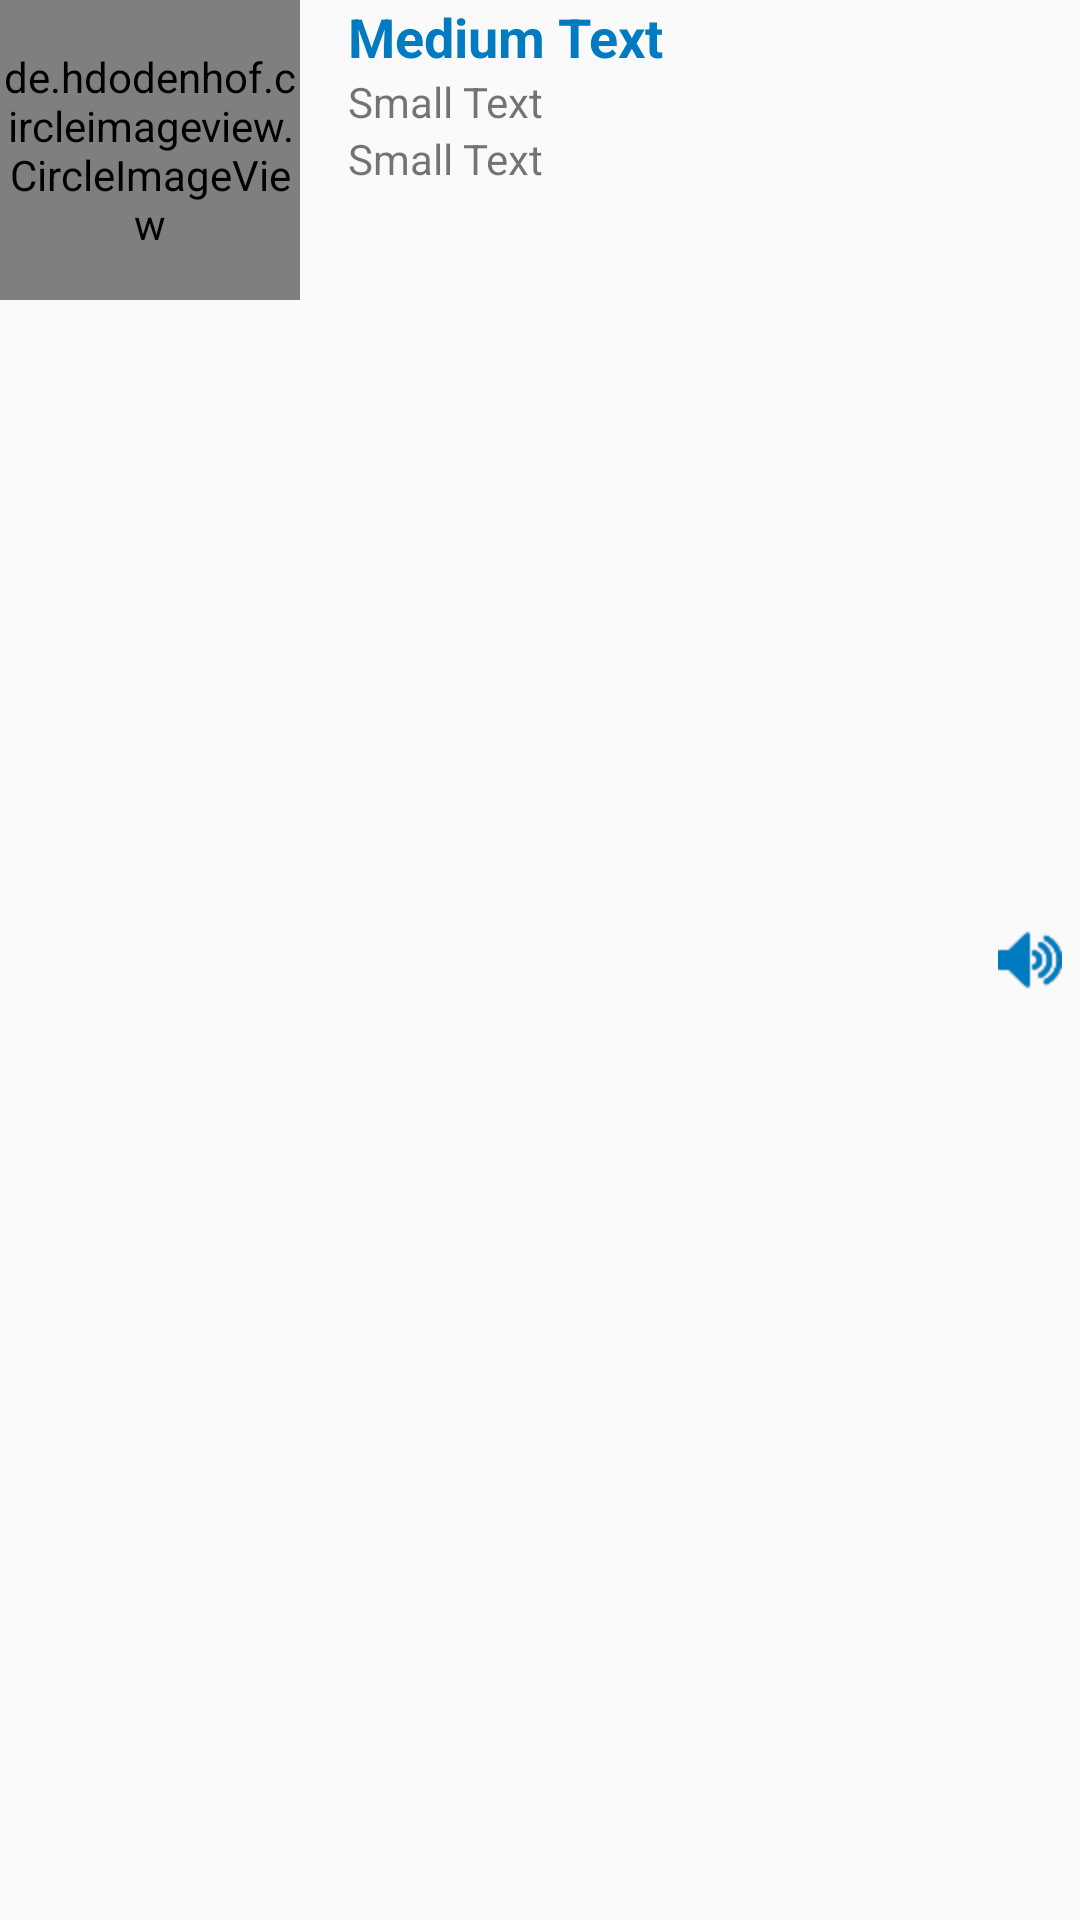

Screen size 1080px x 1920px. Icon name, then its center in pixels as (x=x, y=y):
third volume: (x=1030, y=960)
